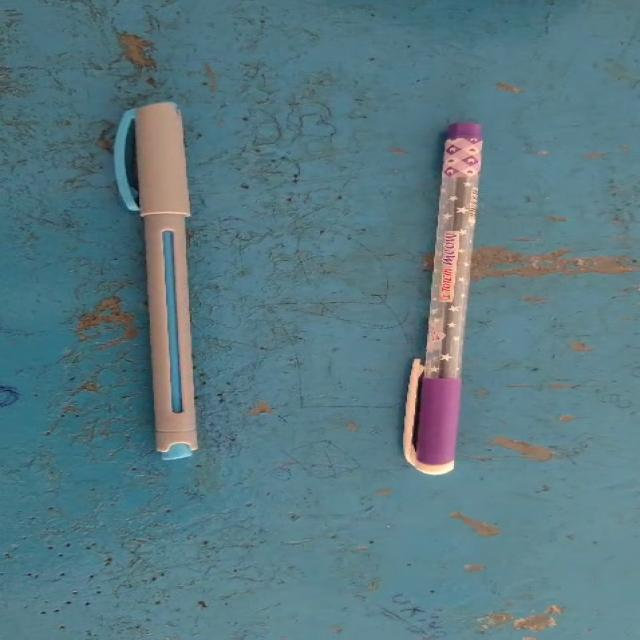pen: (325, 64, 531, 498), (70, 67, 257, 485)
